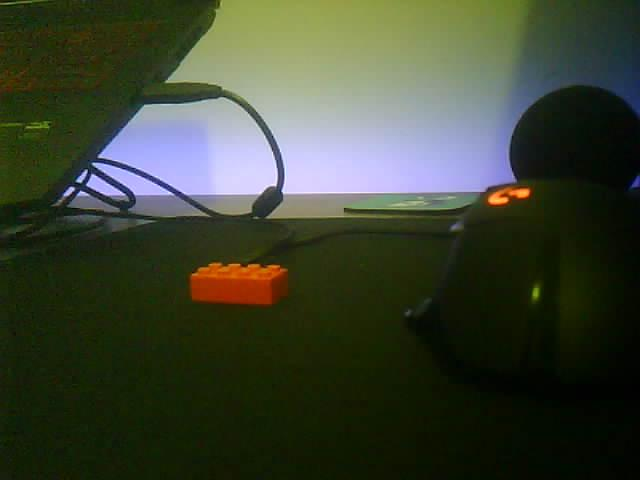lego: (189, 260, 289, 306)
